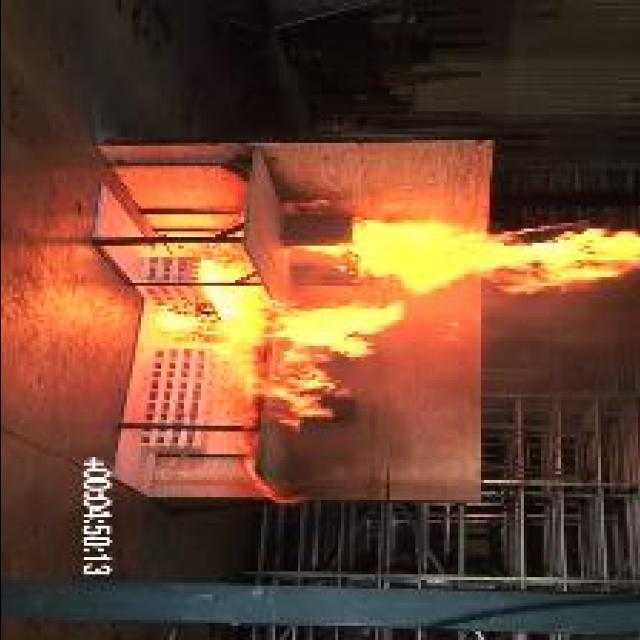Fire: (162, 259, 408, 427), (354, 218, 640, 296)
